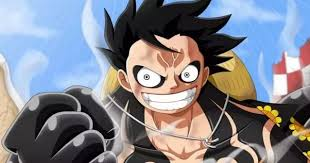Luffy: (117, 3, 217, 111)
